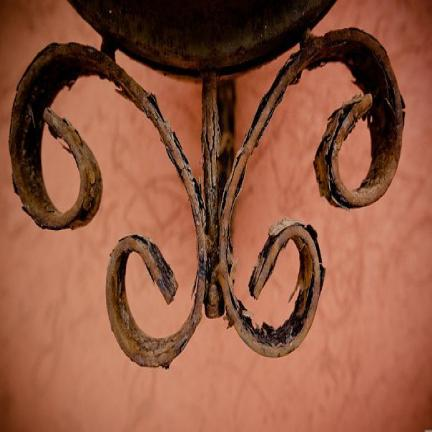karat: (9, 0, 404, 367)
